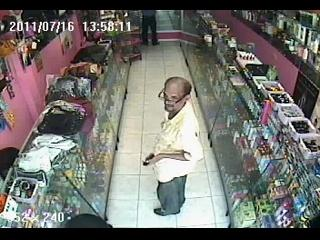Normal: (142, 76, 204, 216), (140, 10, 160, 46)
